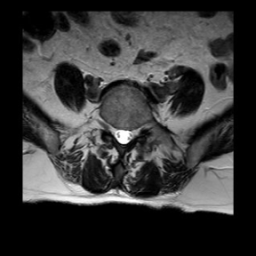CCS_normal: (119, 119, 126, 151)
LFS_normal: (133, 119, 140, 143)
LLS_normal: (126, 120, 133, 148)
RFS_normal: (106, 114, 113, 142)
RLS_normal: (113, 117, 119, 149)
